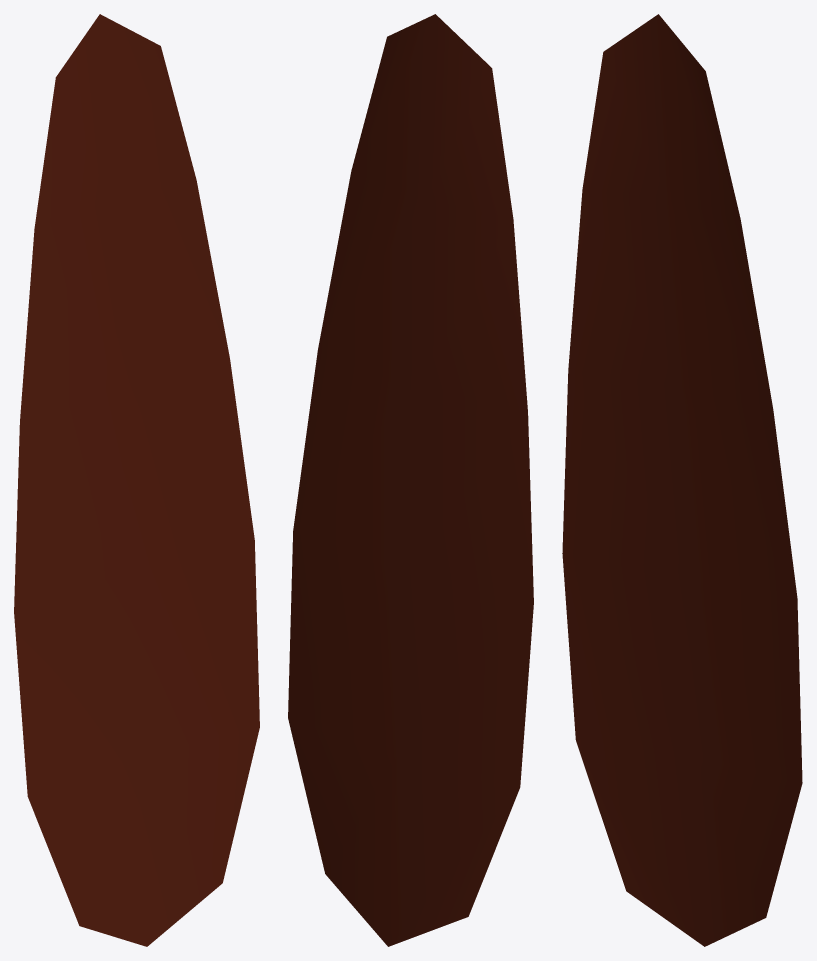
Rendered from finch_feather_flight_tertiary_039.obj.
3 renders of one model, left to right at view 1: azimuth 30°, elevation 25°; view 2: azimuth 150°, elevation 25°; view 3: azimuth 330°, elevation 25°, orthographic. The views are drawn at different scales.
Visible parts, largest first — view 1: feather_flight_tertiary_039; view 2: feather_flight_tertiary_039; view 3: feather_flight_tertiary_039.
Boxes of the visible parts, x1,y1,x2,y2 form: feather_flight_tertiary_039: (14, 14, 259, 946); feather_flight_tertiary_039: (288, 14, 533, 946); feather_flight_tertiary_039: (562, 14, 802, 946).
Size of the model in its own units: 0.00344 by 0.0126 by 0.000153.
